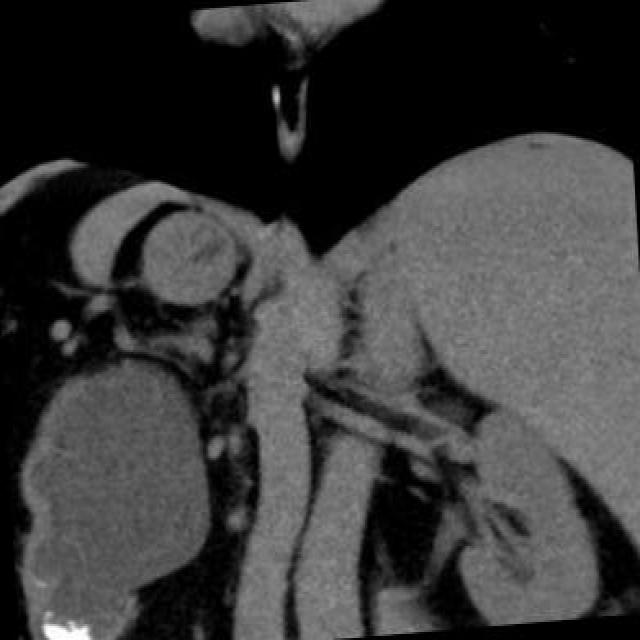Tas_Var: (33, 610, 98, 640)
